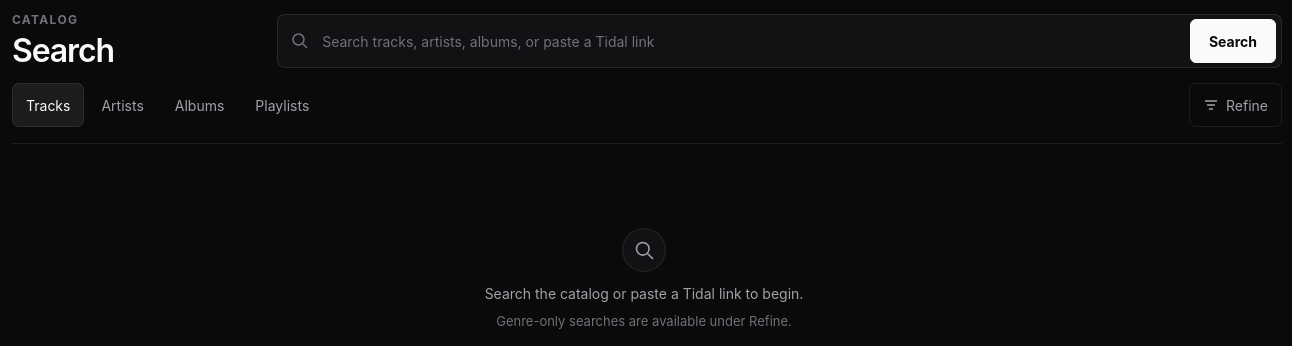
Test: SearchView › renders enriched metadata while keeping track actions available
In the field labelled "Search tracks, artists, albums, or paste a Tidal link": [750, 41] box [318,22,1181,60], type "Night Drive"
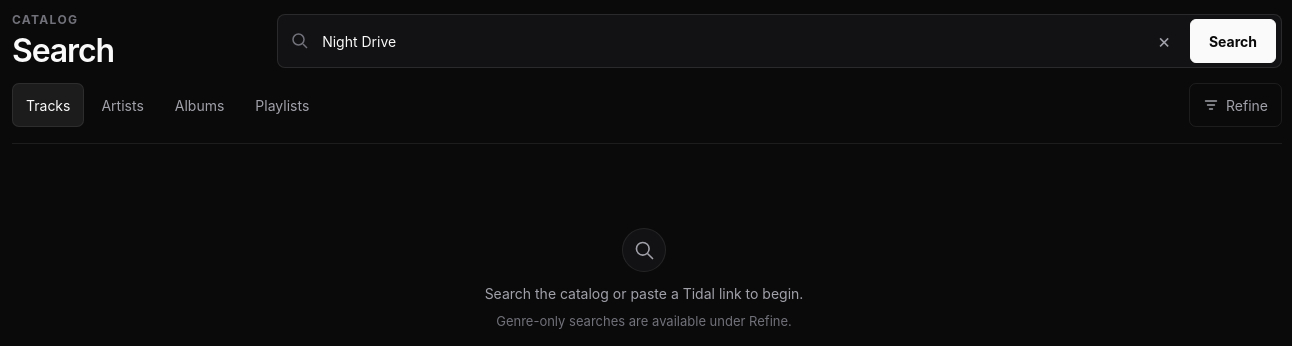
Click the button "Search": [1233, 41] box [1190,19,1276,63]
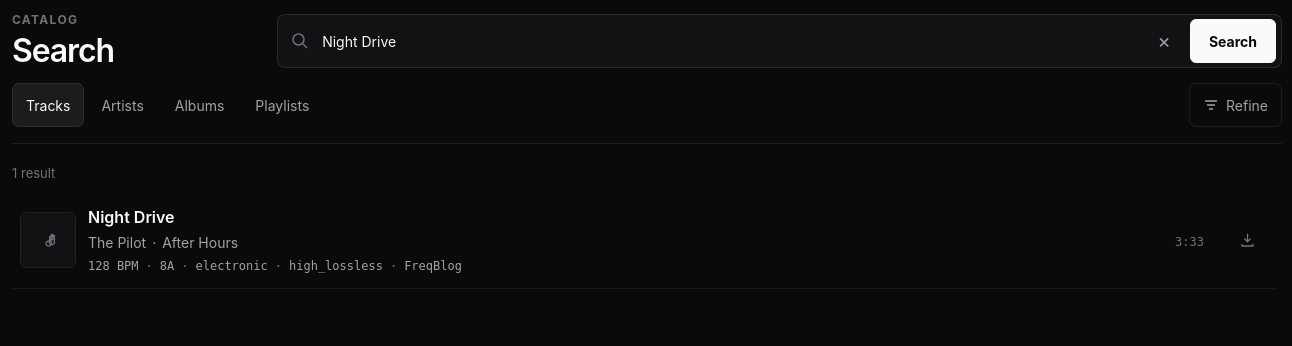
Now the text "Night Drive" is shown, box [88,207,175,227]
Now the text "8A" is shown, box [160,259,174,273]
Now the text "electronic" is shown, box [196,259,268,273]
